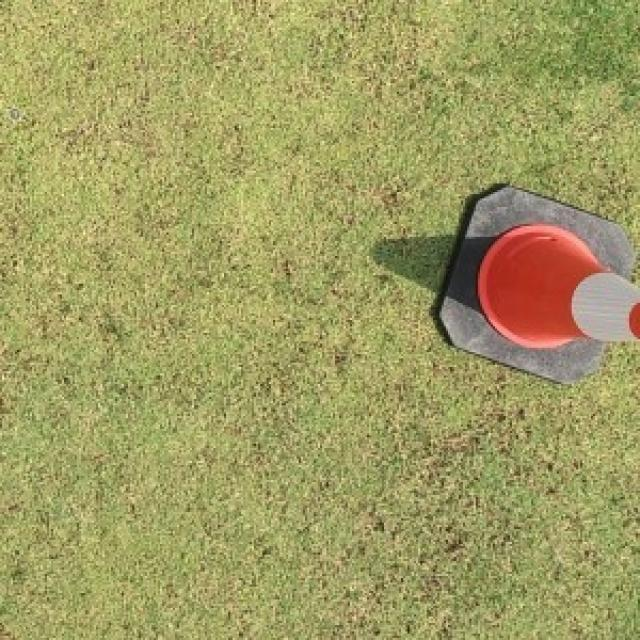cone: (439, 183, 640, 384)
